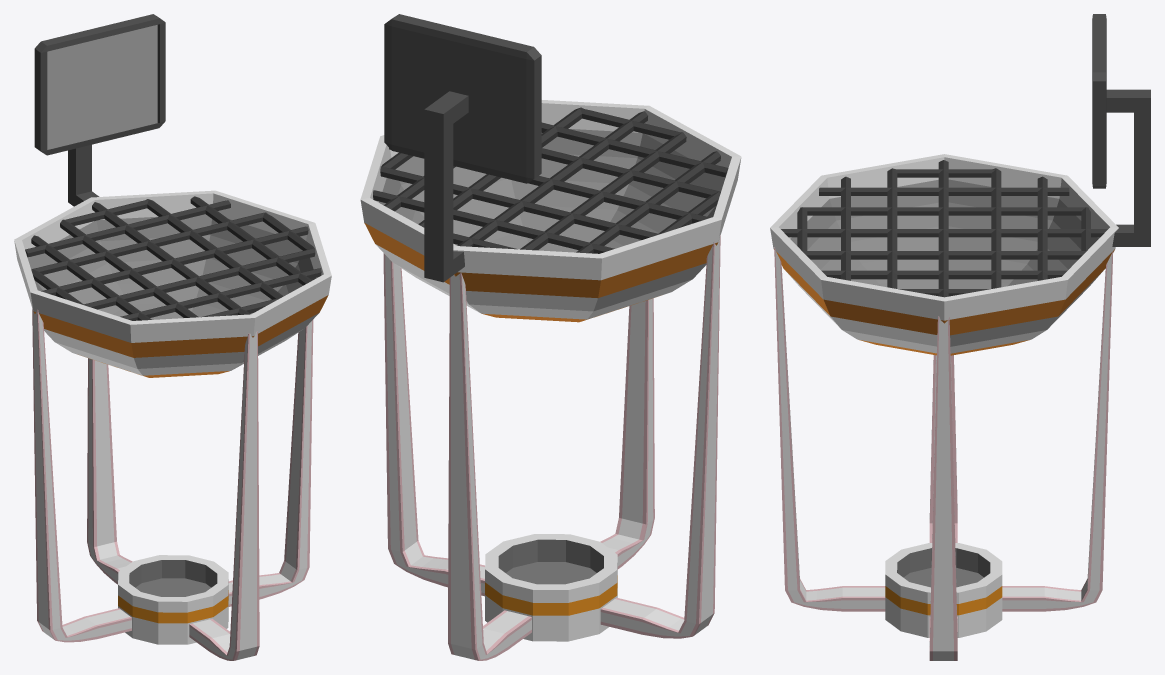
File: Grill.fbx
3 views of the same model, side by side, from view 1: azimuth 30°, elevation 25°; view 2: azimuth 150°, elevation 25°; view 3: azimuth 270°, elevation 25° (orthographic). The views are drawn at different scales.
Visible parts, largest first — view 1: Cylinder.001; view 2: Cylinder.001; view 3: Cylinder.001.
Boxes of the visible parts, bbox=[...] form: Cylinder.001: bbox=[14, 14, 331, 660]; Cylinder.001: bbox=[360, 14, 741, 660]; Cylinder.001: bbox=[770, 14, 1150, 660].
Bounding box in the file's own units: 617 × 1113 × 674.
